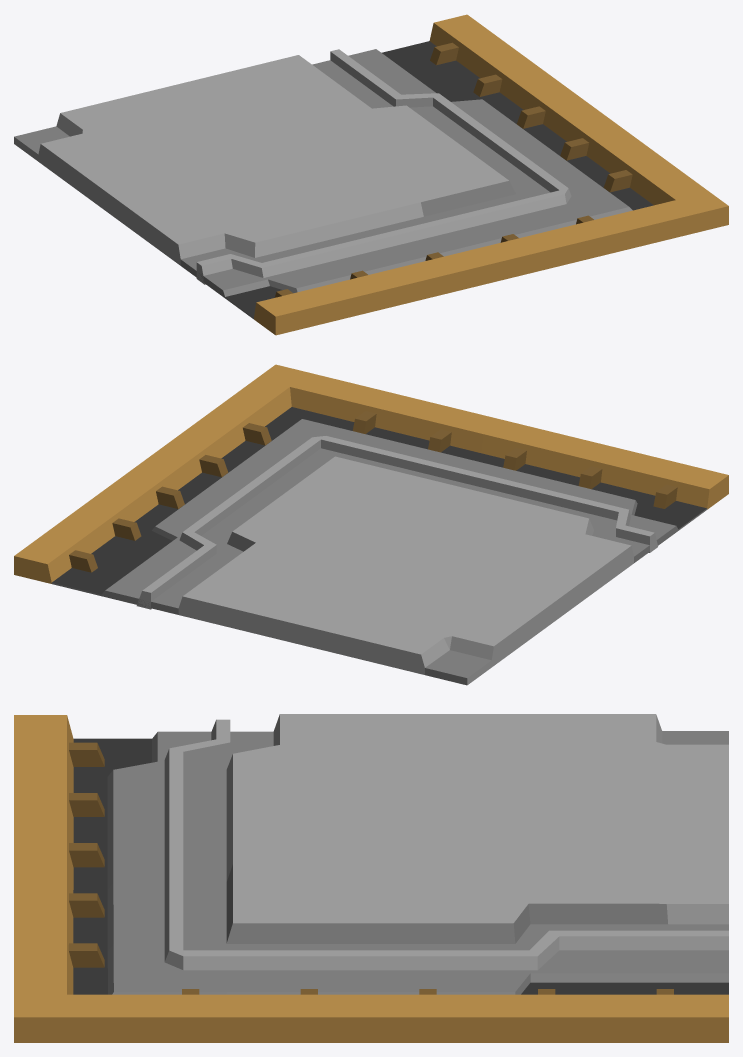
Rendered from floortile_corner.022_lev3.glb.
3 views of the same model, one above another, from view 1: azimuth 30°, elevation 25°; view 2: azimuth 150°, elevation 25°; view 3: azimuth 270°, elevation 25° (orthographic). The views are drawn at different scales.
Parts seen in each view (by area): view 1: floortile_corner.022_lev3; view 2: floortile_corner.022_lev3; view 3: floortile_corner.022_lev3.
Boxes of the visible parts, box(x1,y1,x2,y2) form: floortile_corner.022_lev3: box(14, 14, 728, 335); floortile_corner.022_lev3: box(14, 364, 728, 685); floortile_corner.022_lev3: box(14, 714, 728, 1042).
Size of the model in its own units: 2 by 0.123 by 2.
